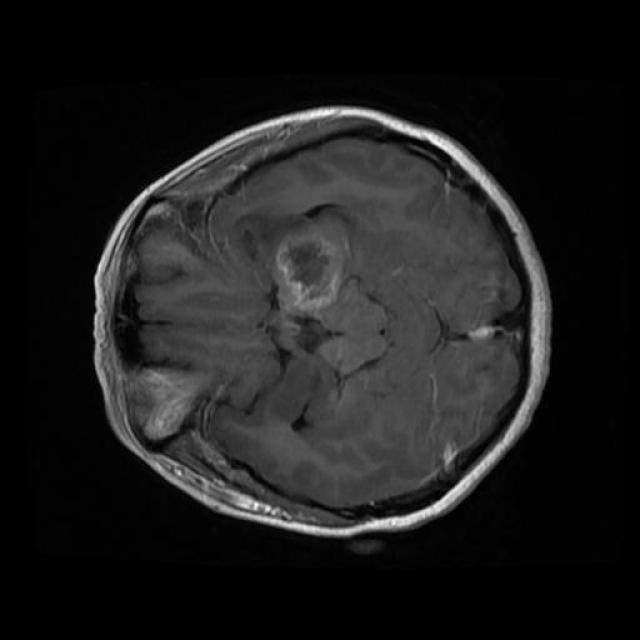Glioma: (276, 222, 344, 314)
